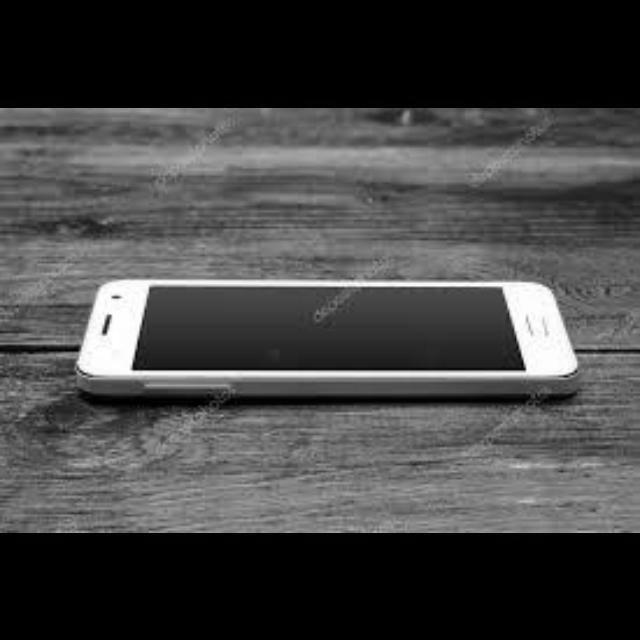fake: (73, 276, 562, 384)
